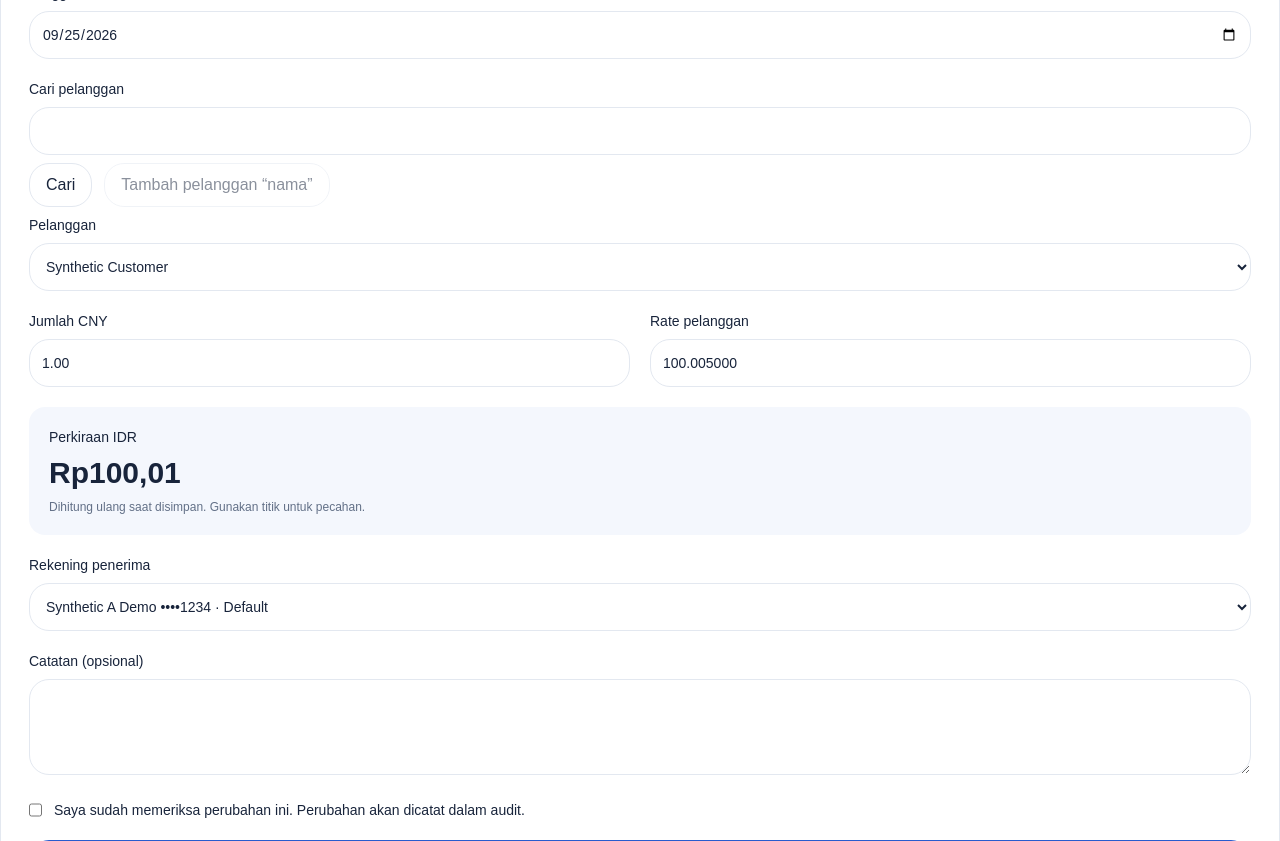
Test case: keeps editable inputs after a definite validation rejection
The width and height of the screenshot is (1280, 841).
What coordinates should you click on to do the following:
click the checkbox
I would click on:
 (36, 810)
Its box is [29,800,42,820].
(page scrolled)
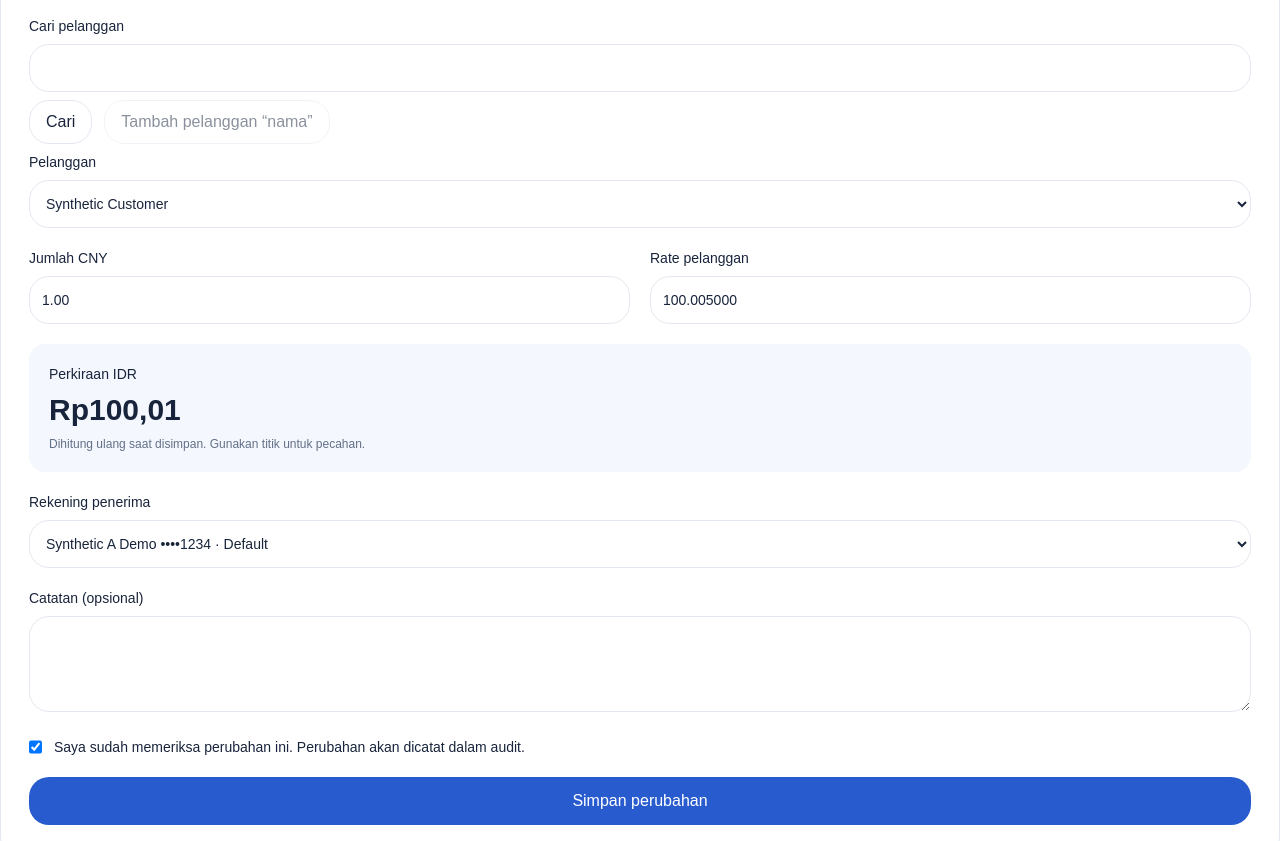
What coordinates should you click on to do the following:
click the button "Simpan perubahan"
I would click on:
 (640, 801)
Its box is [29,777,1251,825].
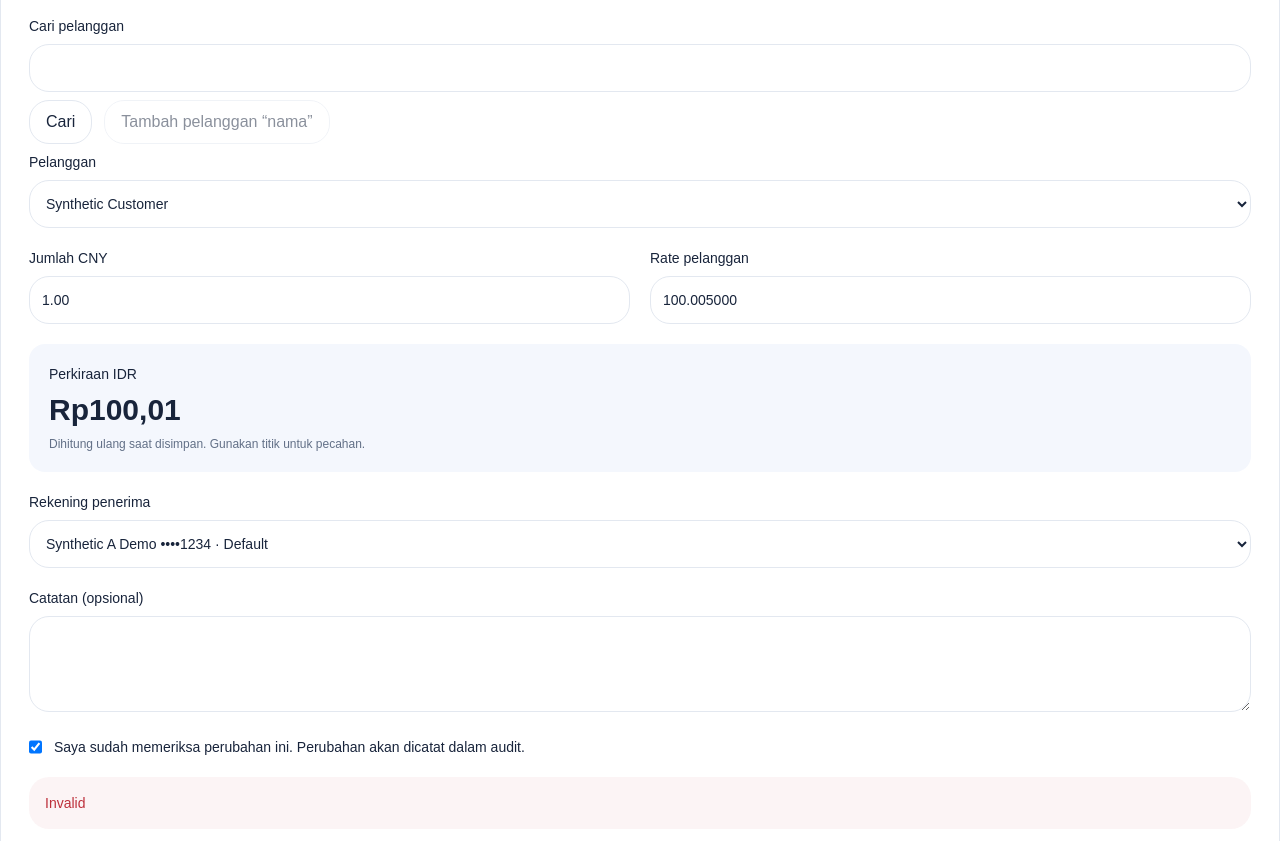
Expected: the field labelled "Jumlah CNY" is enabled, [29,276,630,324]
Now the message reads "Invalid", box [45,795,86,811]
